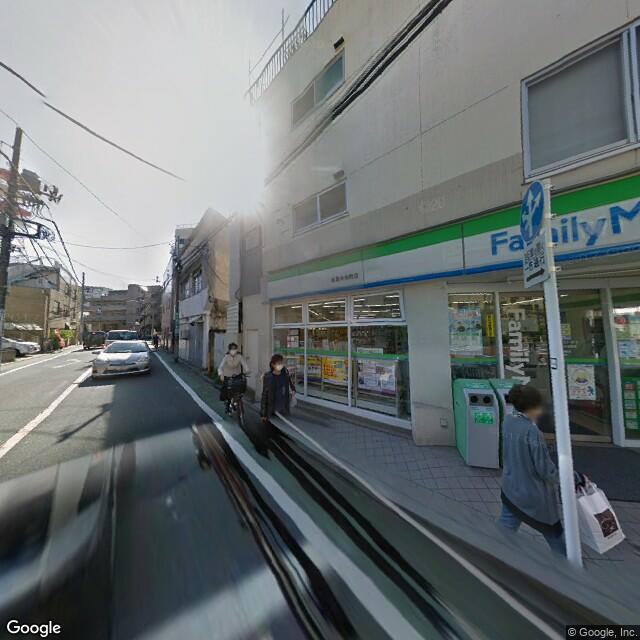family_mart: (268, 173, 639, 303)
